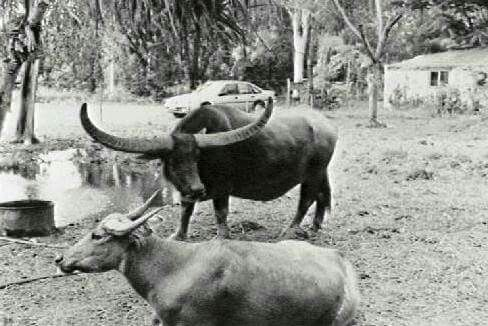buffalo: (51, 191, 357, 326), (74, 88, 337, 233)
